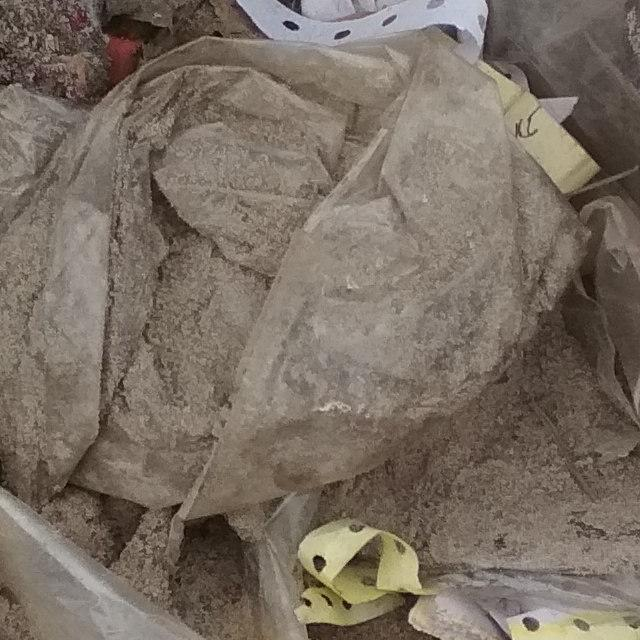plastic: (0, 32, 626, 516)
